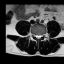CCS_normal: (37, 33, 39, 42)
LFS_normal: (41, 32, 43, 38)
LLS_normal: (39, 32, 41, 40)
RFS_normal: (33, 31, 35, 38)
RLS_normal: (35, 32, 37, 40)
